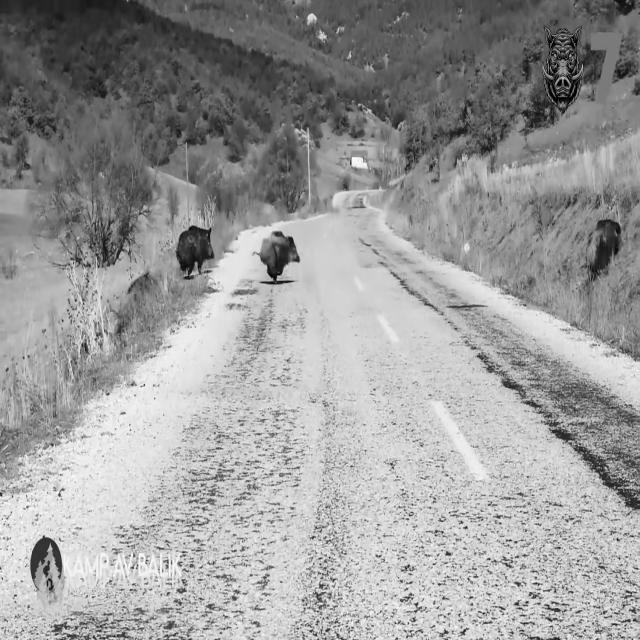boar: (588, 218, 623, 280), (258, 231, 299, 281), (176, 225, 214, 278)
